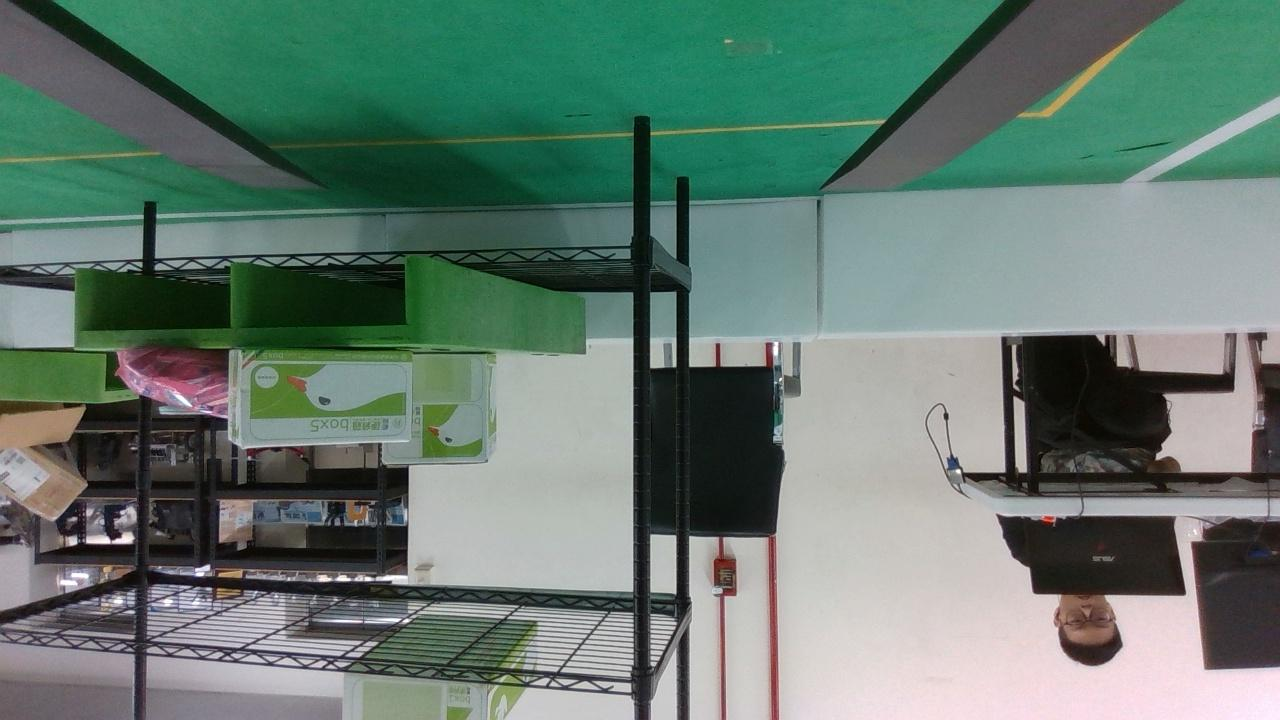Pallet: (74, 255, 429, 350)
